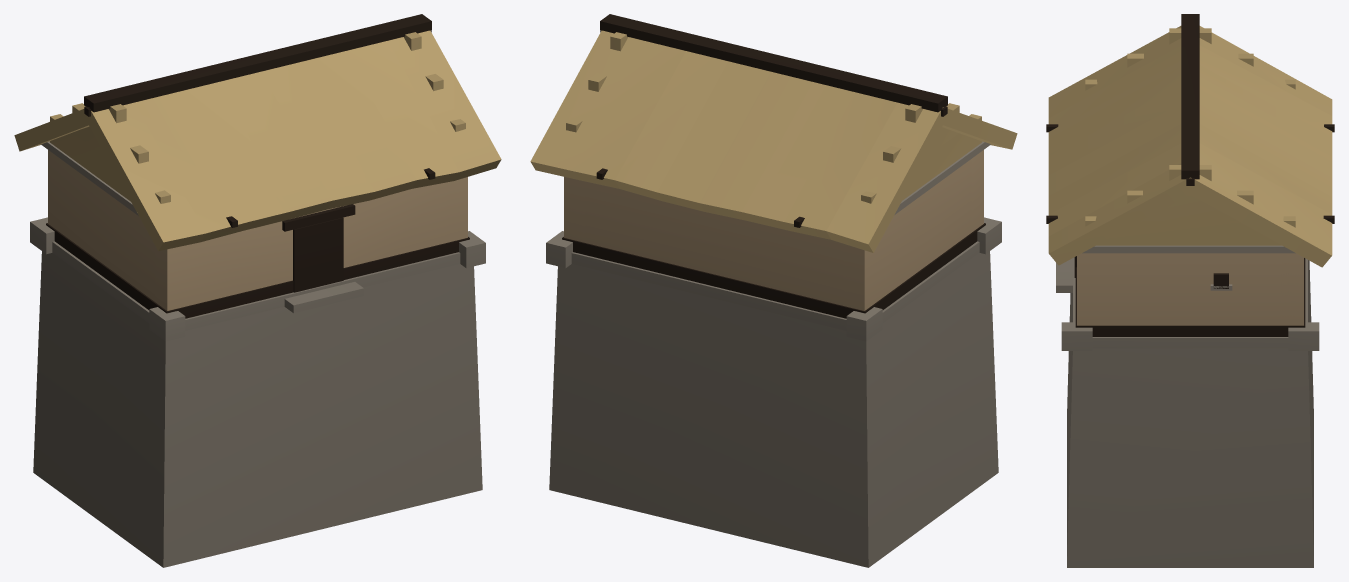
Rendered from killke_house_lod0.glb.
3 views of the same model, side by side, from view 1: azimuth 30°, elevation 25°; view 2: azimuth 150°, elevation 25°; view 3: azimuth 270°, elevation 25° (orthographic). The views are drawn at different scales.
Visible parts, largest first — view 1: GEO-Arch_killke_house_LOD0; view 2: GEO-Arch_killke_house_LOD0; view 3: GEO-Arch_killke_house_LOD0.
Part boxes in pixels (x1,y1,x2,y2): GEO-Arch_killke_house_LOD0: [14, 14, 501, 567]; GEO-Arch_killke_house_LOD0: [530, 14, 1017, 567]; GEO-Arch_killke_house_LOD0: [1046, 14, 1334, 567].
Size of the model in its own units: 7.3 by 8.6 by 5.6.
